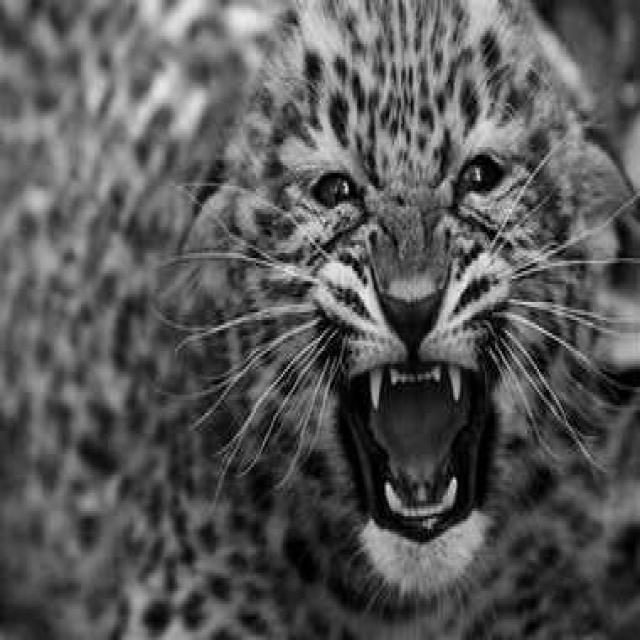Leopard: (152, 3, 586, 590)
